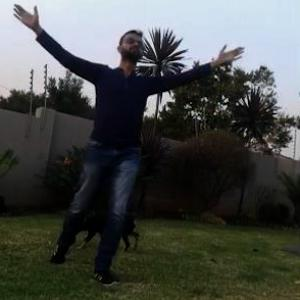takeoff: (12, 38, 205, 255)
